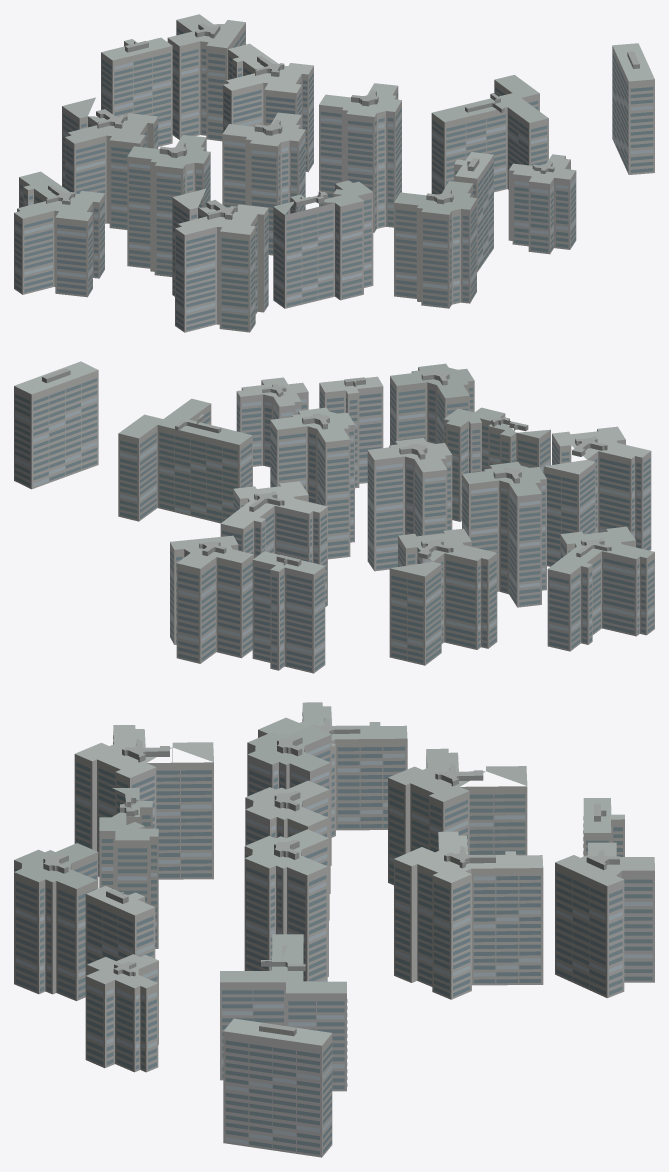
Rendered from apt-a15679109.glb.
The picture shows the model from 3 angles, top to bottom: view 1: azimuth 30°, elevation 25°; view 2: azimuth 150°, elevation 25°; view 3: azimuth 270°, elevation 25°; orthographic projection. The views are drawn at different scales.
Parts seen in each view (by area): view 1: apt-a15679109; view 2: apt-a15679109; view 3: apt-a15679109.
Part boxes in pixels (bbox=[...]): apt-a15679109: bbox=[14, 14, 654, 332]; apt-a15679109: bbox=[14, 361, 654, 673]; apt-a15679109: bbox=[14, 702, 654, 1157].
Bounding box in the file's own units: 319 × 59 × 238.
